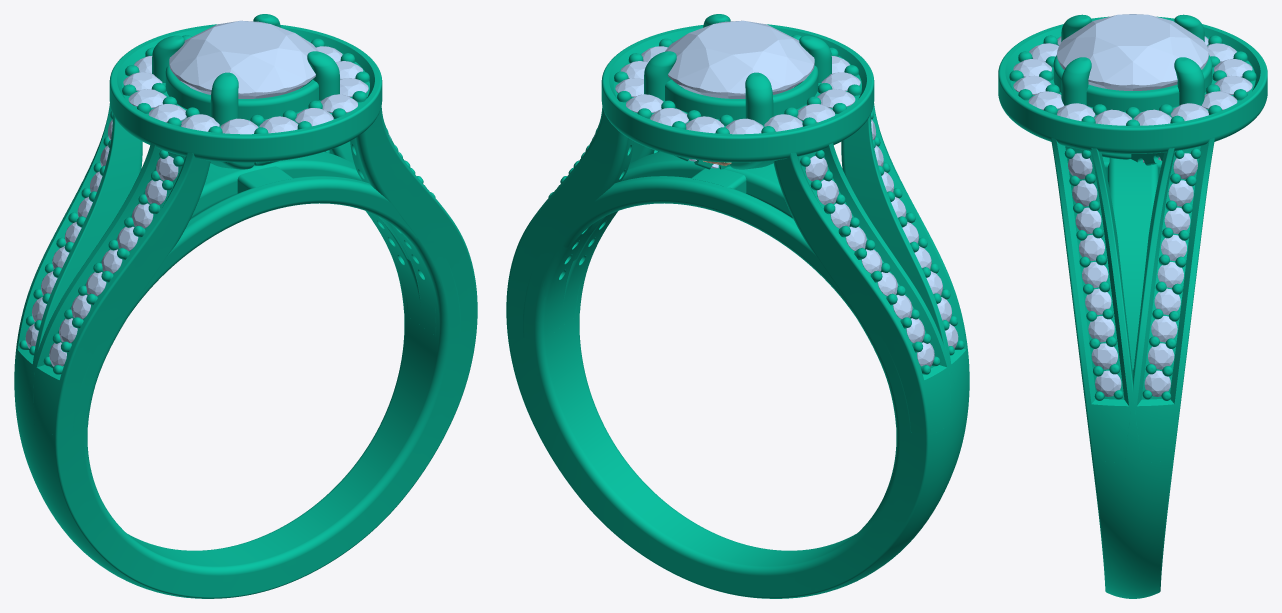
The picture shows the model from 3 angles, left to right: view 1: azimuth 30°, elevation 25°; view 2: azimuth 150°, elevation 25°; view 3: azimuth 270°, elevation 25°; orthographic projection.
Visible parts, largest first — view 1: JTC-10690(front).3dm, Diamond_Round; view 2: JTC-10690(front).3dm, Diamond_Round; view 3: JTC-10690(front).3dm, Diamond_Round (×31).
Boxes of the visible parts, x1,y1,x2,y2 form: JTC-10690(front).3dm: (14, 14, 477, 598); Diamond_Round: (169, 20, 318, 98); JTC-10690(front).3dm: (506, 14, 969, 598); Diamond_Round: (665, 20, 814, 98); JTC-10690(front).3dm: (998, 14, 1267, 598); Diamond_Round (×31): (1013, 14, 1252, 396).
Bounding box in the file's own units: 2.4 × 2.92 × 1.31.
